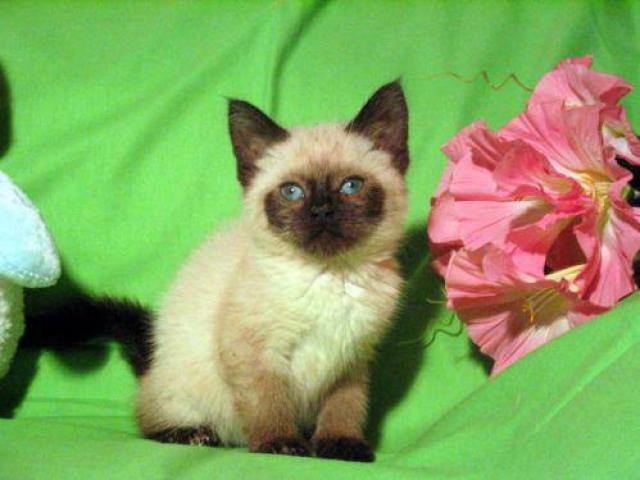cat: (143, 81, 420, 457)
